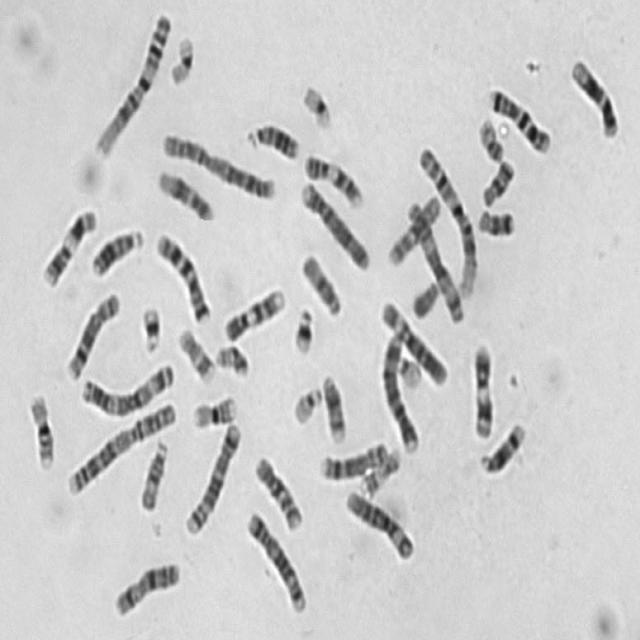A1: (89, 3, 172, 158), (412, 138, 478, 300)
A2: (61, 392, 178, 498), (157, 123, 278, 202)
A3: (402, 190, 467, 324), (75, 354, 178, 418)
B4: (296, 171, 372, 273), (376, 325, 421, 454)
B5: (179, 411, 243, 537), (240, 502, 309, 616)
C10: (382, 186, 443, 268), (248, 447, 304, 533)
C11: (36, 198, 99, 289), (466, 334, 496, 440)
C12: (565, 51, 620, 140), (151, 160, 216, 223)
C6: (376, 290, 450, 388), (340, 482, 416, 562)
C7: (150, 224, 212, 324), (483, 79, 553, 155)
C8: (61, 283, 122, 382), (314, 432, 390, 482)
C9: (298, 144, 366, 209), (218, 278, 287, 342)
D13: (86, 219, 145, 279), (242, 113, 301, 161)
D14: (474, 414, 528, 476), (316, 364, 348, 444)
D15: (296, 245, 344, 319), (134, 431, 169, 513)
E16: (22, 384, 57, 471), (186, 386, 238, 429)
E17: (353, 438, 403, 499), (173, 319, 217, 385)
E18: (476, 150, 517, 208), (472, 199, 517, 239)
F19: (296, 75, 334, 131), (163, 27, 196, 86)
F20: (472, 108, 507, 164), (210, 335, 251, 379)
G21: (134, 296, 164, 354), (288, 298, 316, 356)
G22: (286, 376, 324, 426), (391, 346, 423, 390)
X: (108, 553, 183, 619)
Y: (407, 271, 441, 320)
